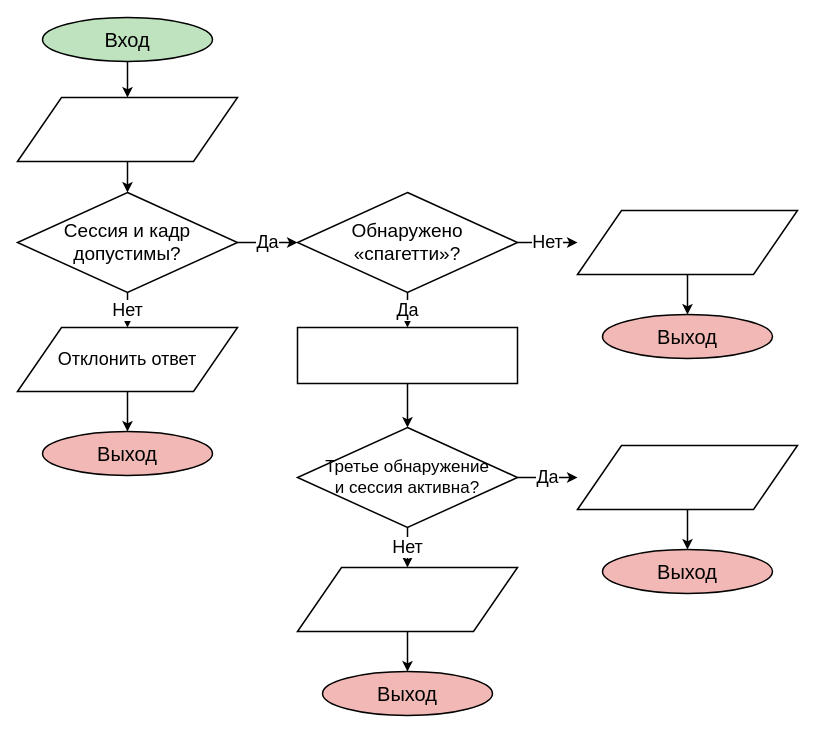
The diagram is 816 pixels wide and 734 high, and some of its shapes have lost their labels. Here are the shapes that lost their labels. From the top down, the centre of each, then its label:
At point (127, 129): "Результат анализа ID сессии и кадра".
At point (687, 242): "Сбросить счётчик Продолжить печать".
At point (407, 355): "Увеличить счётчик".
At point (687, 477): "Запрос отмены CANCEL_PRINT".
At point (407, 599): "Новая команда не формируется".
